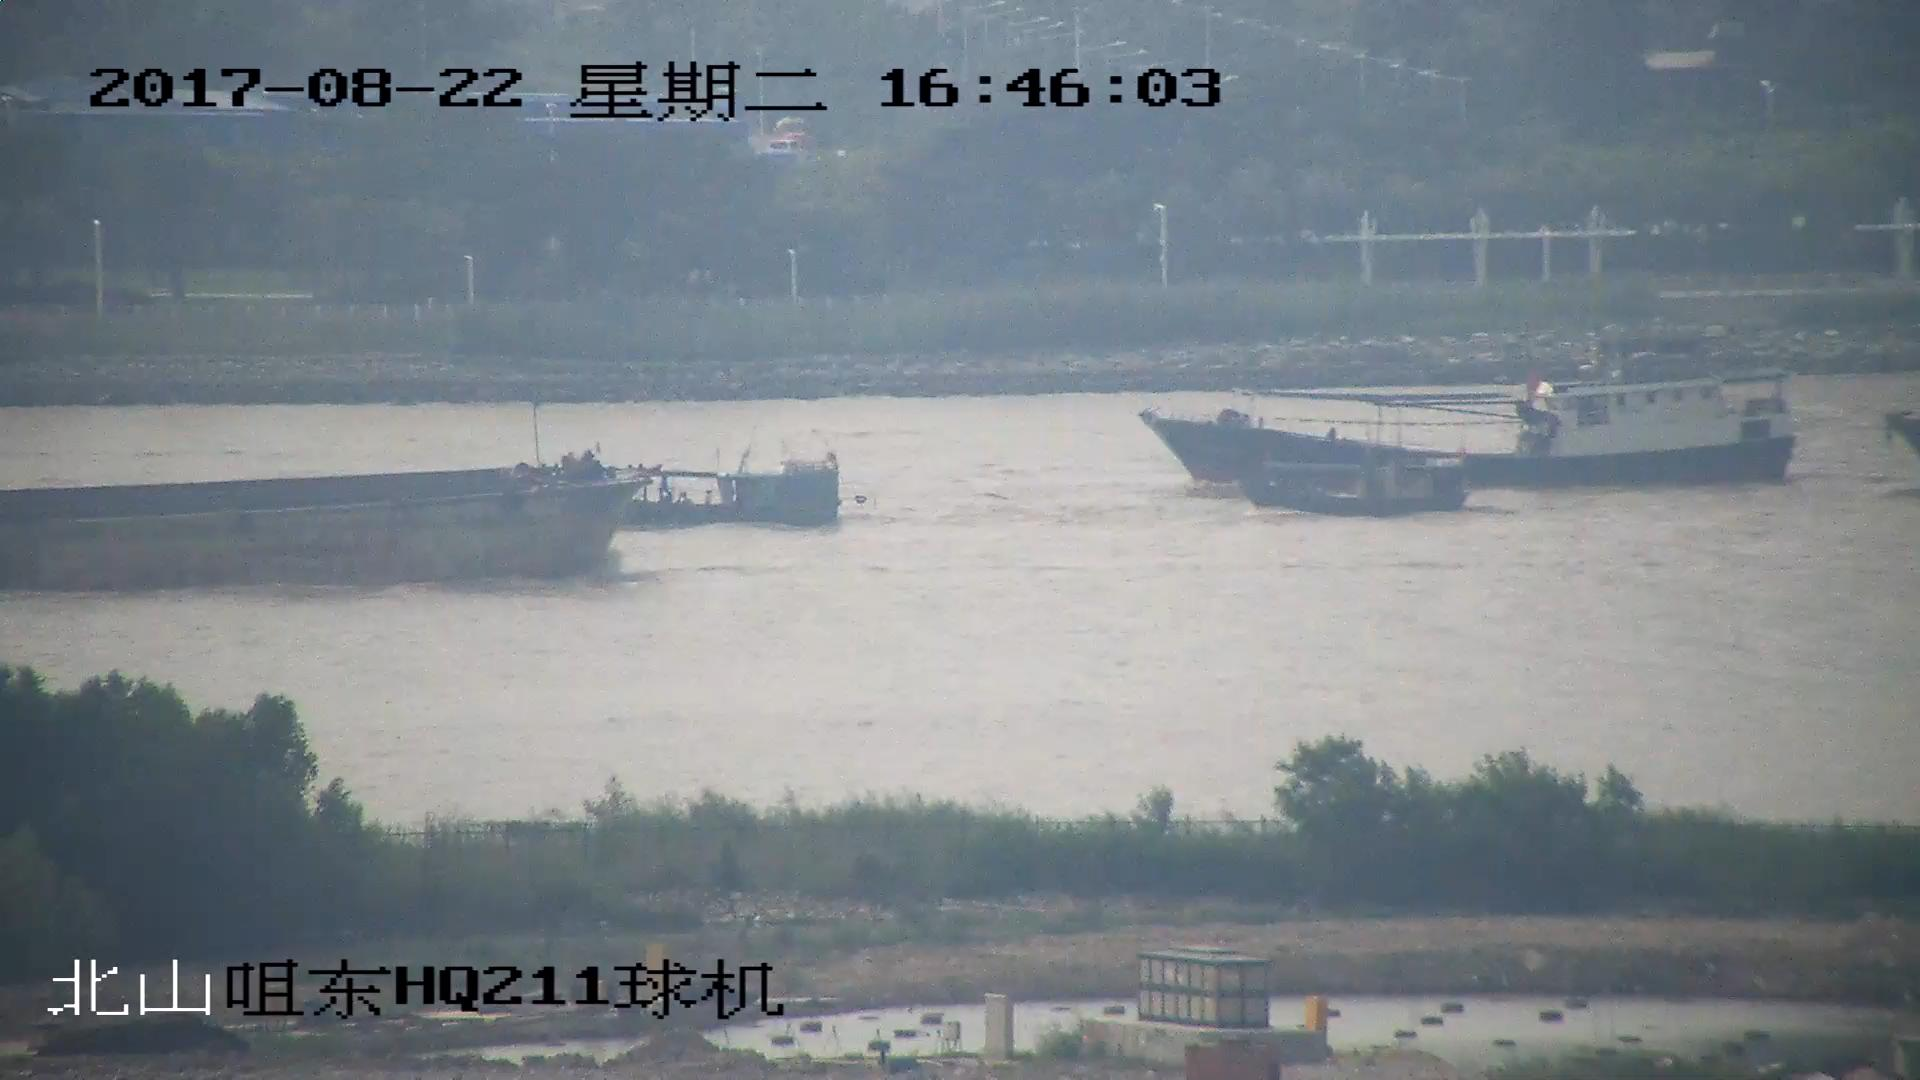bulk cargo carrier: (1, 448, 655, 587)
fishing boat: (1148, 363, 1795, 491), (599, 458, 850, 531), (1238, 456, 1463, 514)
